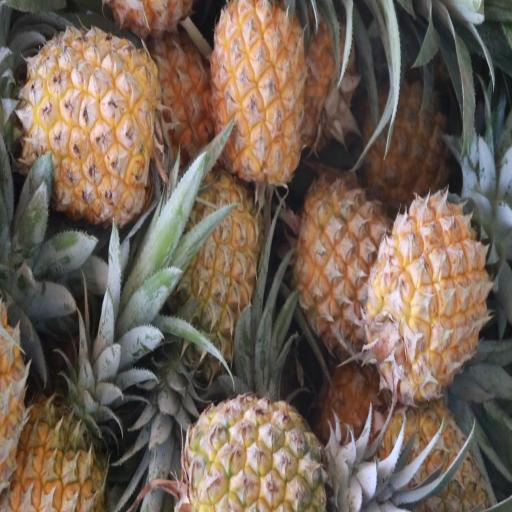------------------------------: (183, 399, 344, 512), (296, 184, 390, 354)
Pineapple - v8 v1: (24, 26, 153, 218), (369, 195, 488, 396), (211, 0, 304, 192), (175, 177, 257, 371), (364, 74, 450, 205)
